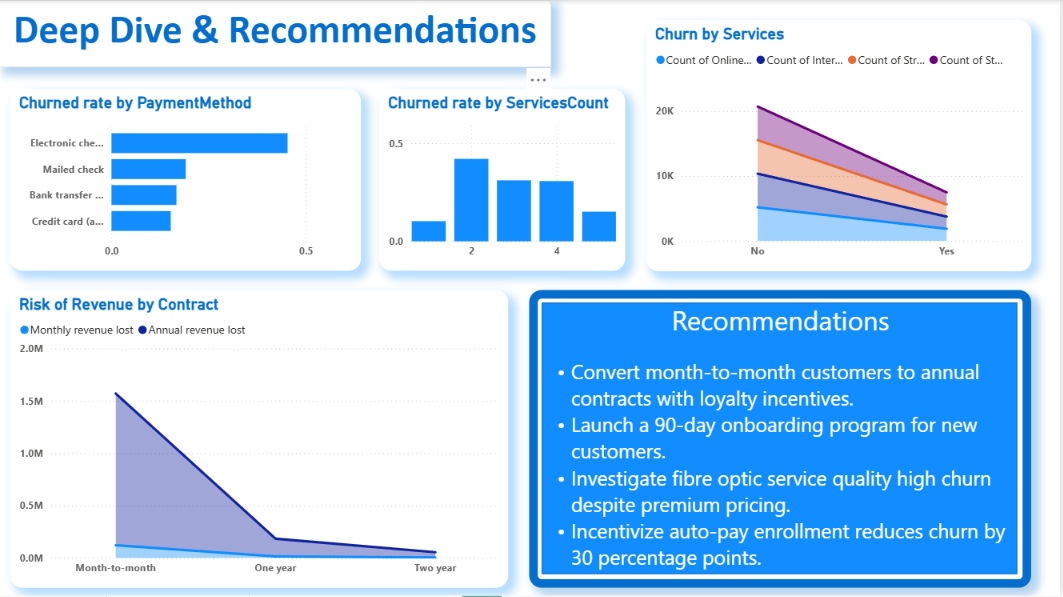

This screenshot's page, from the dashboard's own definition file:
{"tool":"powerbi","page":{"name":"Deep Dive & Recommendations","canvas":[1280,720],"ordinal":1},"visuals":[{"type":"shape","box":[639.4,349.9,605.6,359.5],"z":500},{"type":"barChart","fields":{"Category":["telco_churn.PaymentMethod"],"Y":["telco_churn.Churned rate"]},"box":[13.3,107.4,423.5,219.6],"z":1000},{"type":"columnChart","fields":{"Y":["telco_churn.Churned rate"],"Category":["telco_churn.ServicesCount"]},"box":[458.4,107.4,296.8,219.6],"z":2000},{"type":"textbox","box":[649.1,427.1,588.7,272.7],"z":3000},{"type":"textbox","box":[0,0,666,80.8],"z":4000},{"type":"stackedAreaChart","title":"Churn by Services","fields":{"Category":["telco_churn.Churn"],"Y":["CountNonNull(telco_churn.OnlineSecurity)","CountNonNull(telco_churn.InternetService)","CountNonNull(telco_churn.StreamingTV)","CountNonNull(telco_churn.StreamingMovies)"]},"box":[780.6,24.1,464.5,302.8],"z":5000},{"type":"stackedAreaChart","title":"Risk of Revenue by Contract","fields":{"Category":["telco_churn.Contract"],"Y":["telco_churn.Monthly revenue lost","telco_churn.Annual revenue lost"]},"box":[13.3,349.9,600.8,359.5],"z":6000},{"type":"textbox","box":[792.6,359.5,300.4,57.9],"z":7000}]}

Visuals, with their boxes in screenshot pixels (x1, y1, x2, y2), scaled from the page's 1280x720 canvas onto the 1063x597 screenshot:
shape: detection(531, 290, 1034, 588)
barChart - telco_churn.PaymentMethod x telco_churn.Churned rate: detection(11, 89, 363, 271)
columnChart - telco_churn.Churned rate x telco_churn.ServicesCount: detection(381, 89, 627, 271)
textbox: detection(539, 354, 1028, 580)
textbox: detection(0, 0, 553, 67)
"Churn by Services" stackedAreaChart: detection(648, 20, 1034, 271)
"Risk of Revenue by Contract" stackedAreaChart: detection(11, 290, 510, 588)
textbox: detection(658, 298, 908, 346)
